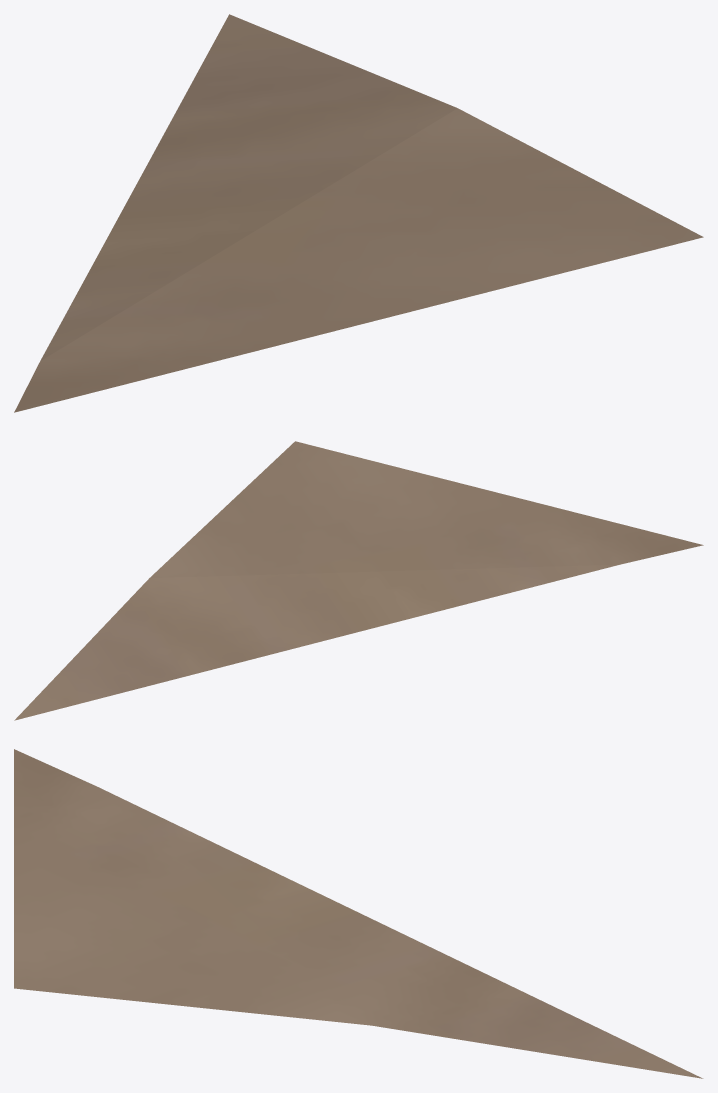
3 renders of one model, top to bottom at view 1: azimuth 30°, elevation 25°; view 2: azimuth 150°, elevation 25°; view 3: azimuth 270°, elevation 25°, orthographic. The views are drawn at different scales.
Bounding box in the file's own units: 0.2046 × 0.0353 × 0.2438.
1 material, 1 textured.
